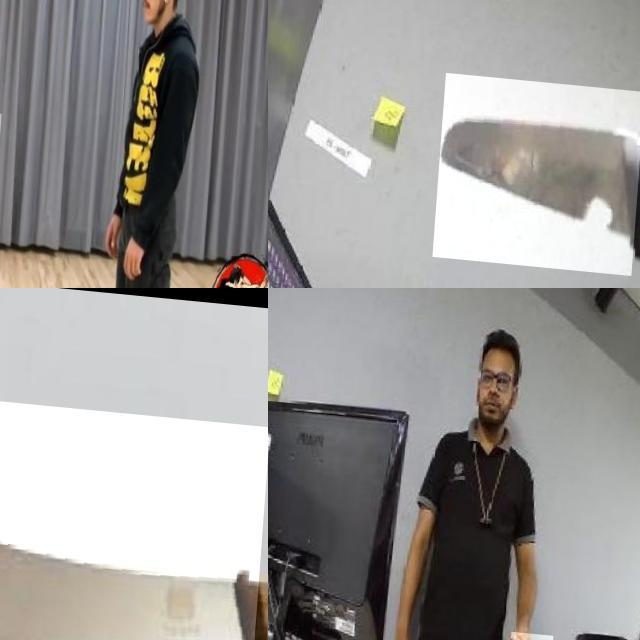-: (0, 388, 268, 640), (440, 67, 640, 266), (0, 104, 21, 172), (516, 626, 561, 640)
